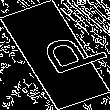P_SW: (14, 28, 96, 82)
